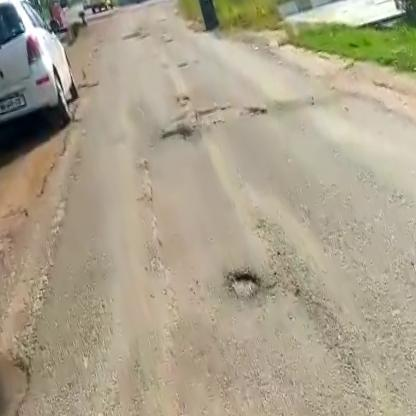pothole: (192, 90, 270, 134), (221, 263, 271, 306), (156, 118, 197, 147)
